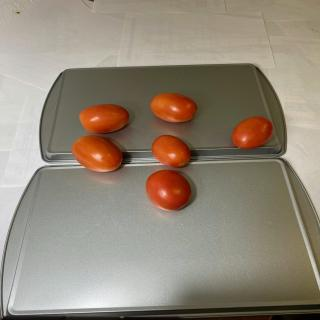Tomato: (146, 169, 192, 211), (71, 135, 123, 172), (79, 104, 129, 134), (232, 116, 274, 150), (150, 92, 197, 122), (151, 134, 191, 168)
